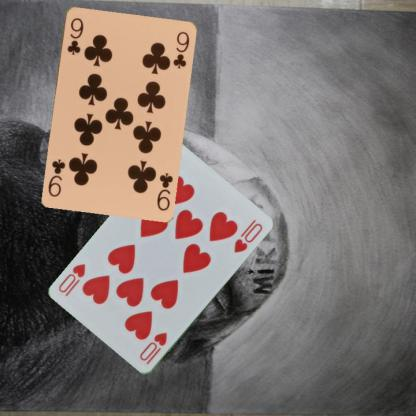10h: (137, 330, 169, 366)
9c: (64, 14, 85, 56), (154, 170, 174, 212)
